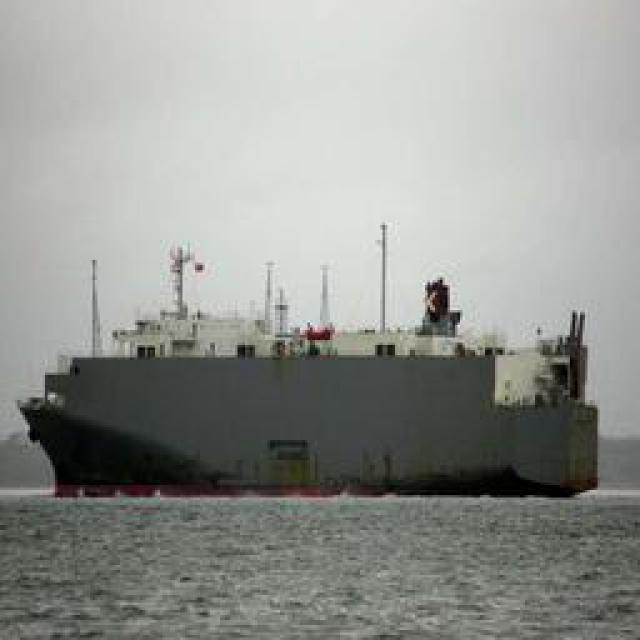Ship: (15, 239, 605, 494)
